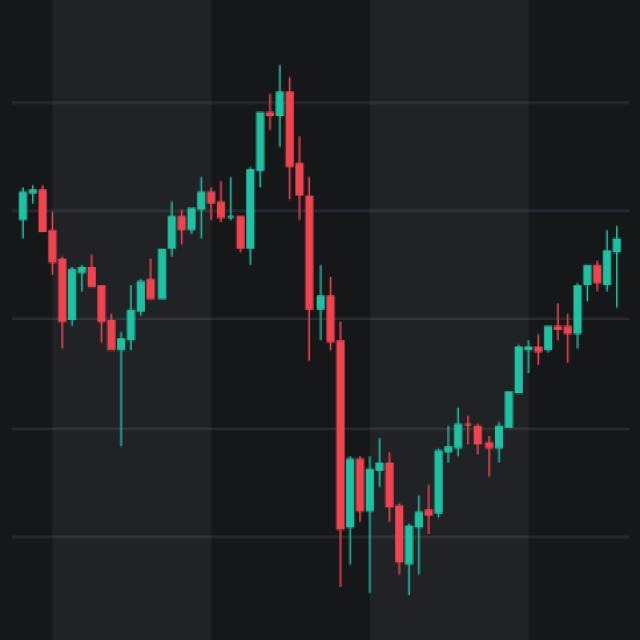Inverse-Head-Shoulders: (321, 342, 517, 602)
